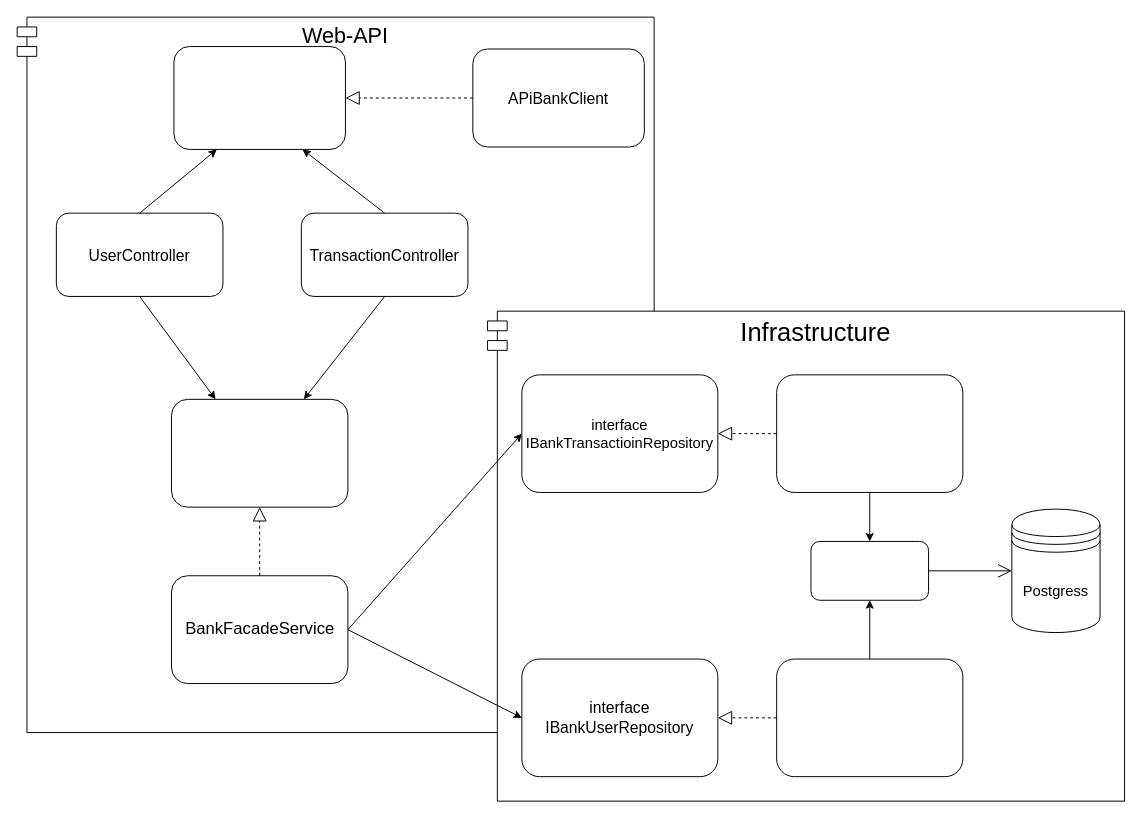
Some shapes in this 1142 by 818 pixel diagram are drawn without their labels. The centre of each missing label's shape, as x and y in pixels:
BankTransactioinRepository: point 869,433
BankUserRepository: point 869,717
DbContext: point 869,570
interface IApiBankClient: point 259,97
interface IBankFacadeService: point 259,452
